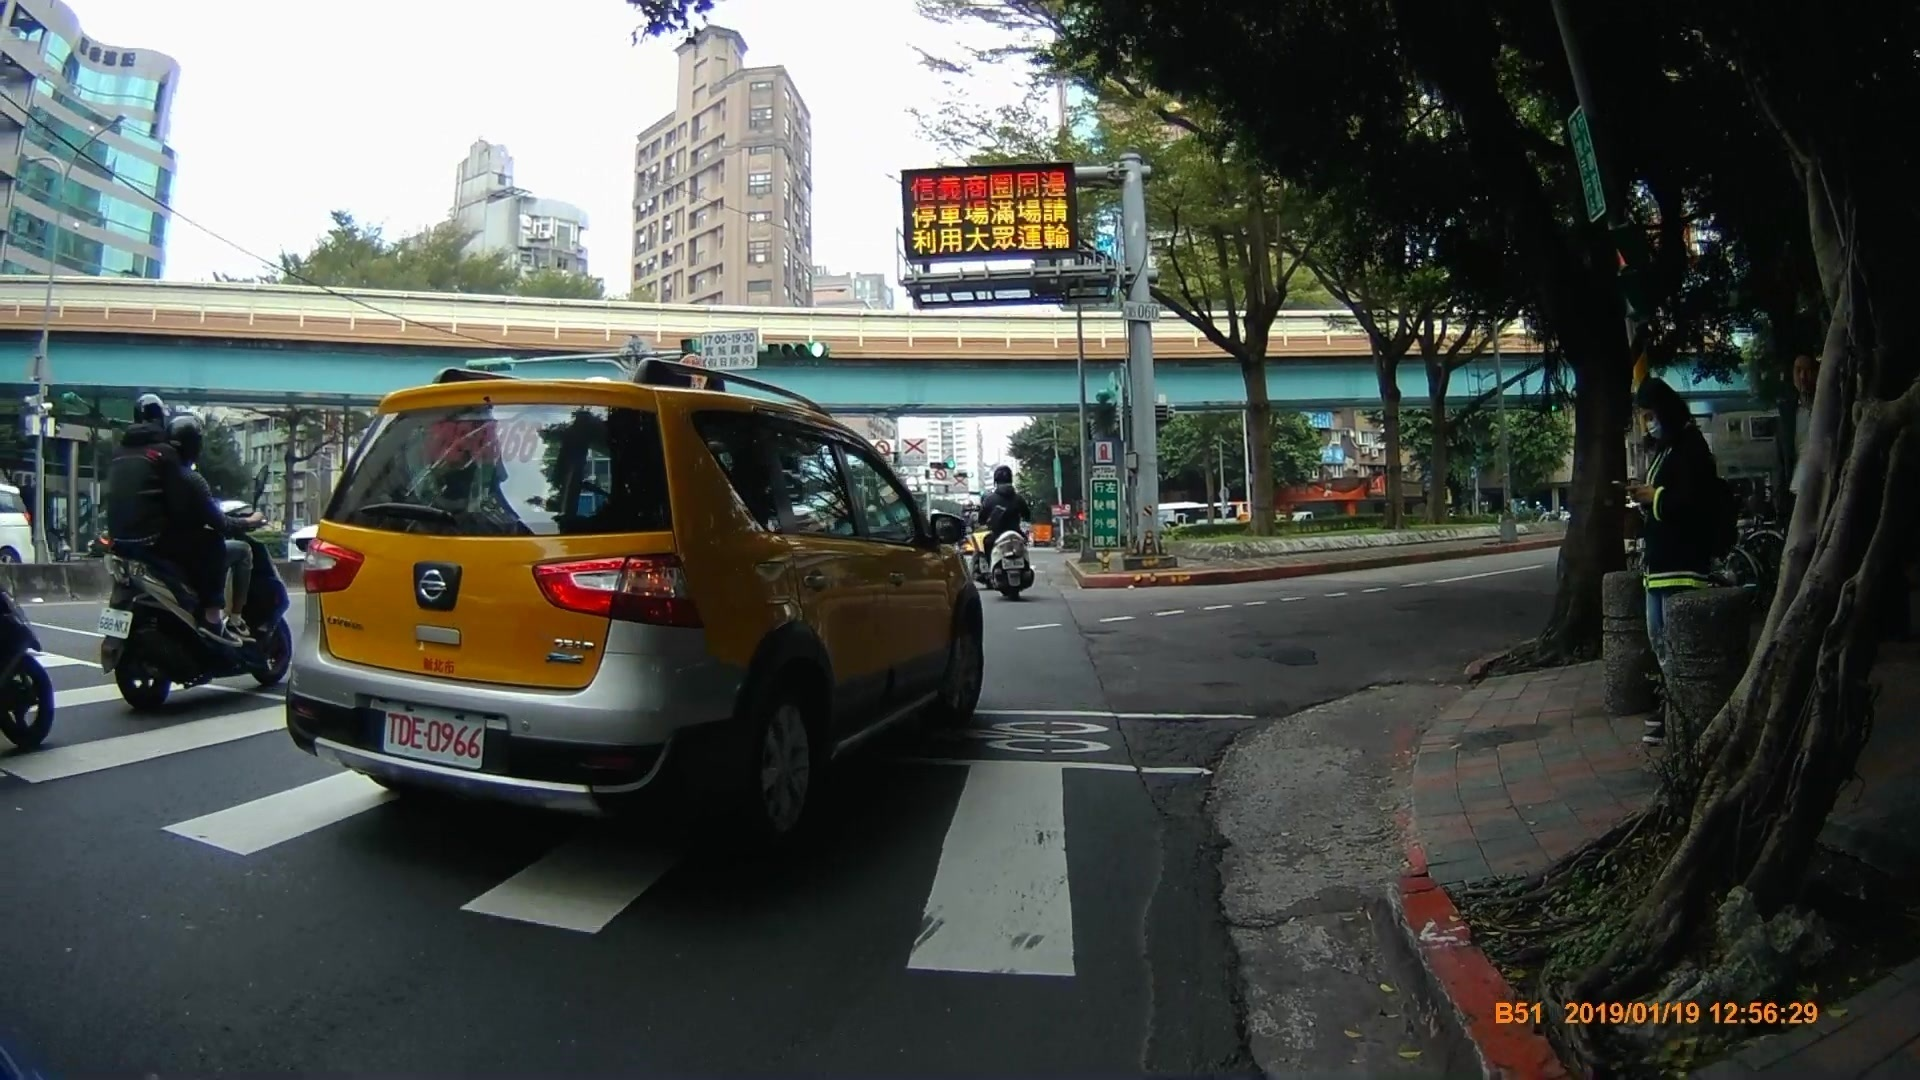License_plate: (378, 704, 487, 770), (94, 605, 138, 640)
